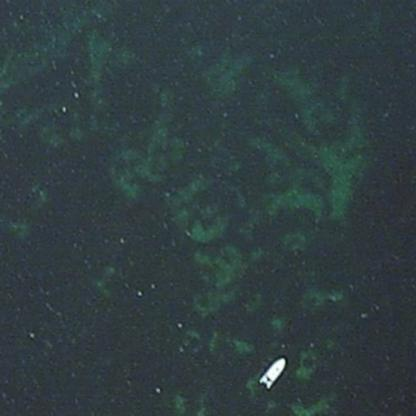ship: (255, 353, 289, 393)
